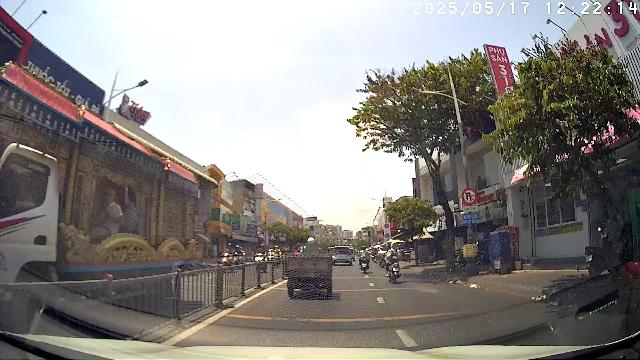124b-cam-oto-quay-dau-xe: (461, 187, 477, 204)
